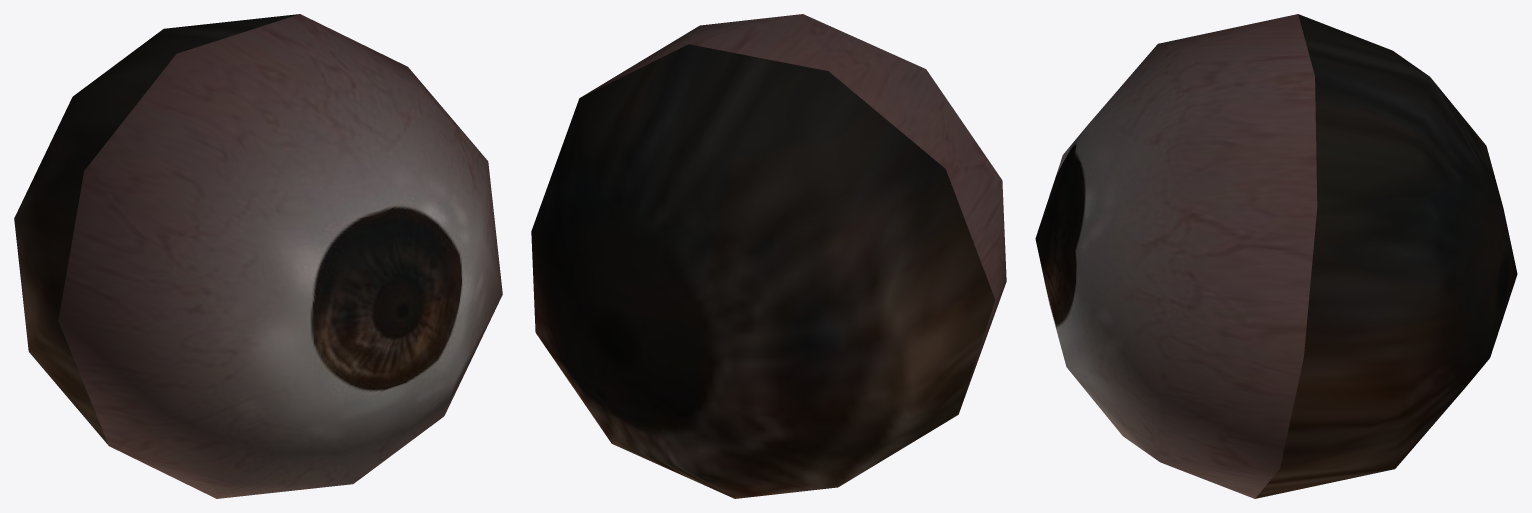
File: right_eye.glb
3 renders of one model, left to right at view 1: azimuth 30°, elevation 25°; view 2: azimuth 150°, elevation 25°; view 3: azimuth 270°, elevation 25°, orthographic.
Parts seen in each view (by area): view 1: Icosphere.001; view 2: Icosphere.001; view 3: Icosphere.001.
Boxes of the visible parts, bbox=[...] form: Icosphere.001: bbox=[14, 14, 502, 498]; Icosphere.001: bbox=[531, 14, 1006, 498]; Icosphere.001: bbox=[1035, 14, 1517, 498].
Bounding box in the file's own units: 0.7636 × 0.7266 × 0.7572.
1 material, 1 textured.
